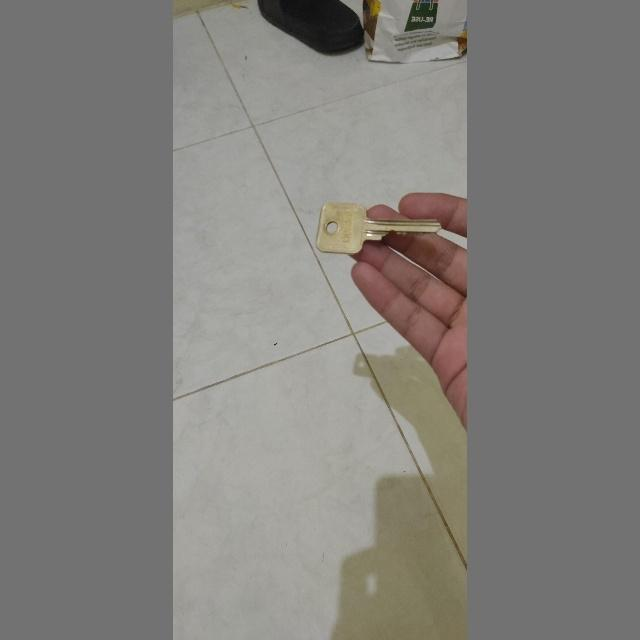Keys: (311, 200, 443, 260)
